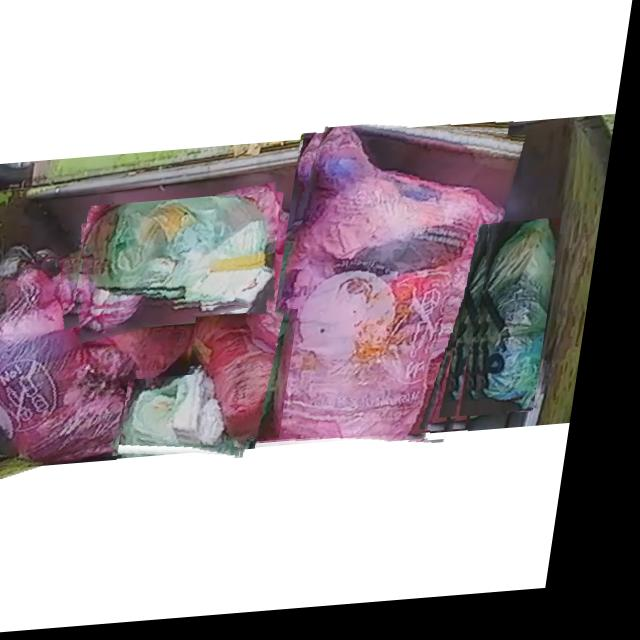general_trashbag: (89, 201, 282, 313), (487, 230, 564, 421), (134, 379, 256, 462)
other_trashbag: (272, 133, 507, 450), (0, 269, 155, 464), (204, 319, 301, 445)
